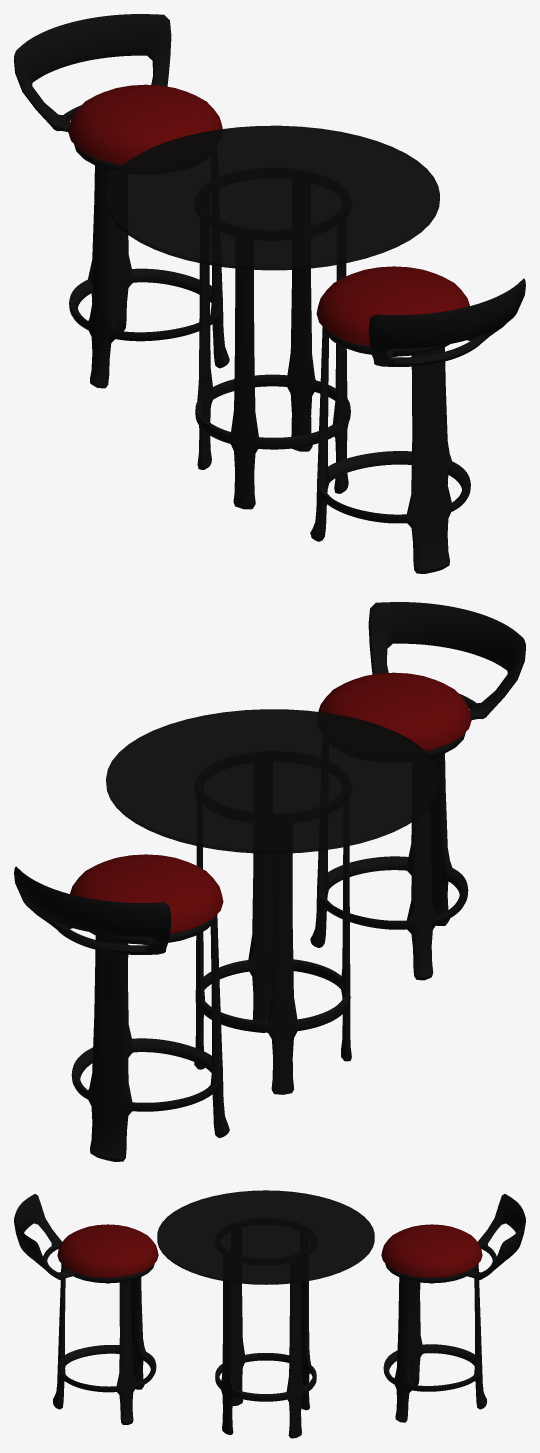
File: Cafe Equipment.obj
3 views of the same model, one above another, from view 1: azimuth 30°, elevation 25°; view 2: azimuth 150°, elevation 25°; view 3: azimuth 270°, elevation 25° (orthographic). The views are drawn at different scales.
Parts seen in each view (by area): view 1: Mesh; view 2: Mesh; view 3: Mesh.
Boxes of the visible parts, x1,y1,x2,y2 form: Mesh: [14, 14, 525, 573]; Mesh: [14, 602, 525, 1161]; Mesh: [14, 1190, 525, 1438].
Size of the model in its own units: 0.54 by 0.5579 by 1.27.
